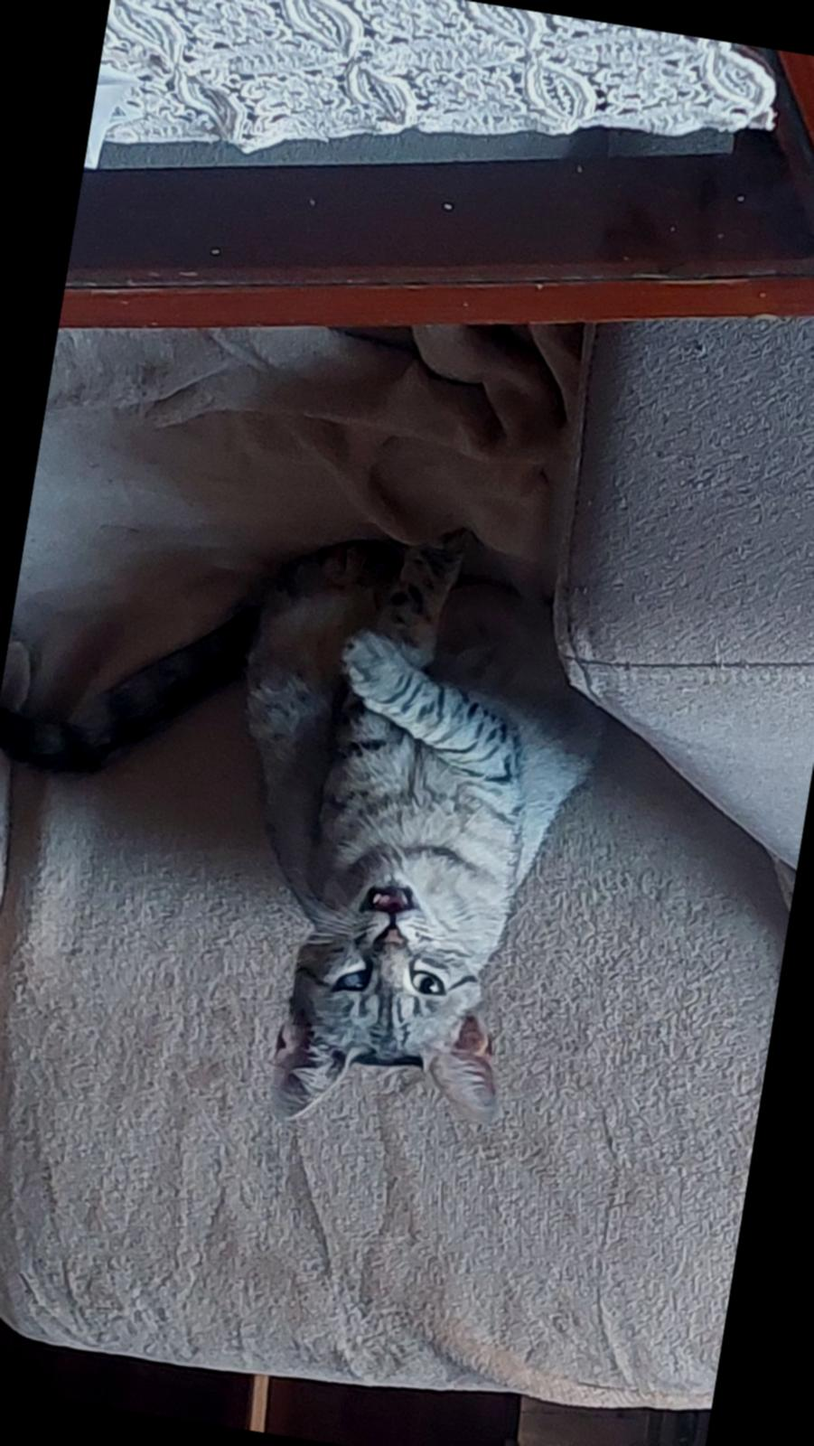macka: (0, 443, 640, 1161)
